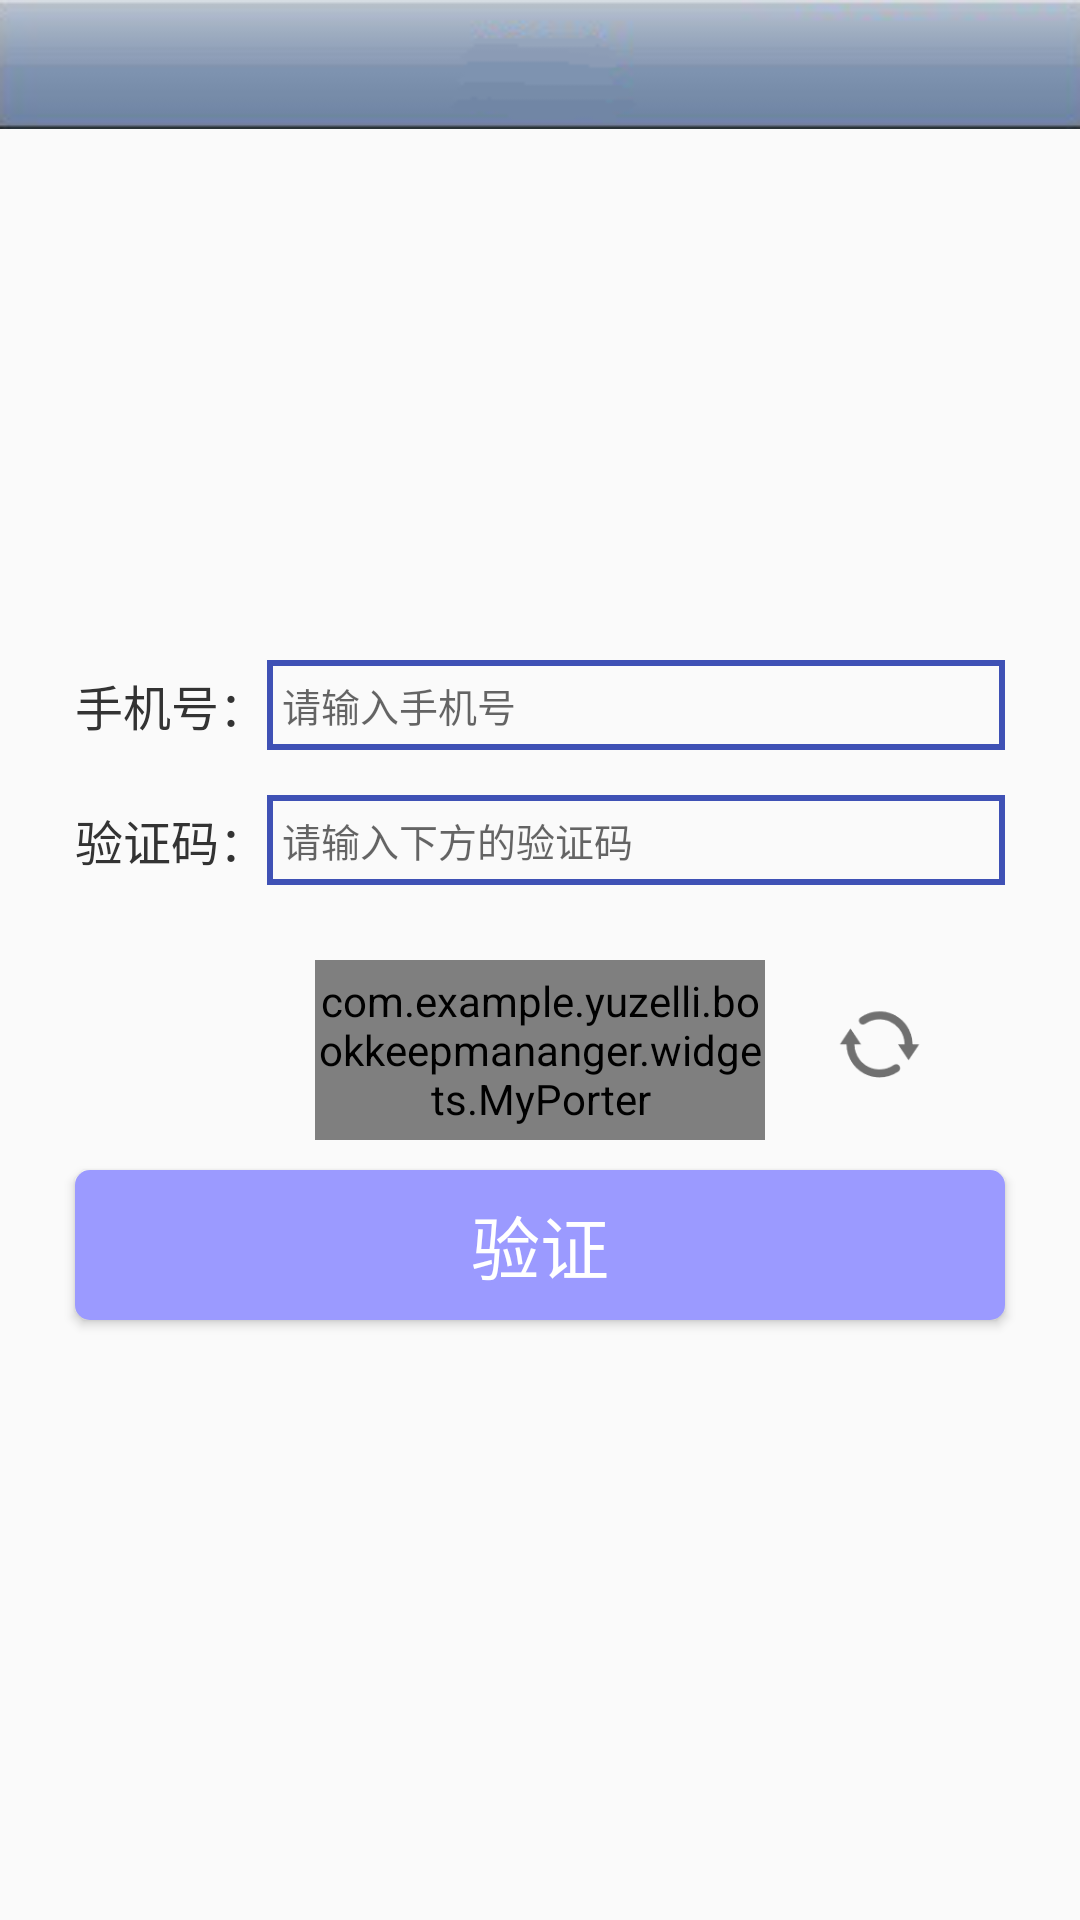

Locate icon controls on the screen. Image size 1080px×1920px, boxes as (x1, y1, x2, y2).
refresh: (840, 1011, 919, 1078)
